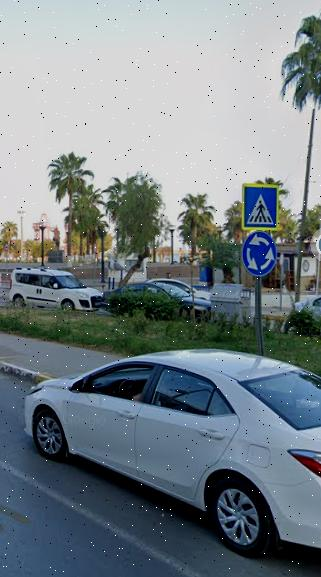crossroads: (243, 232, 276, 274)
